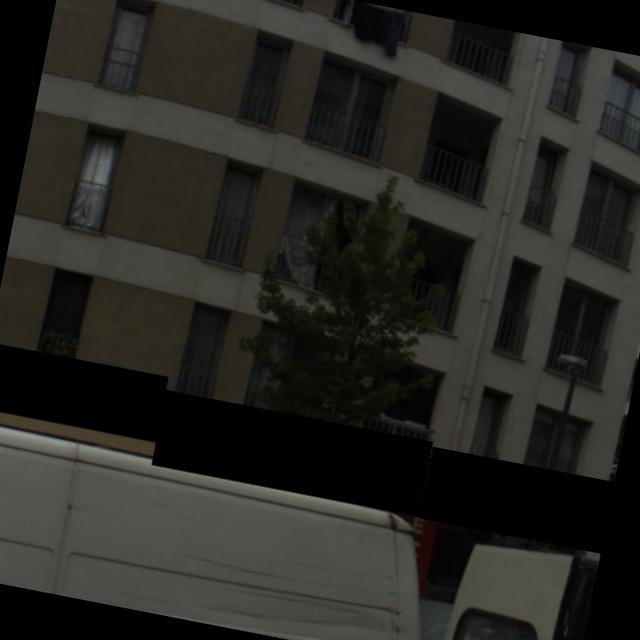SignStore: (155, 391, 431, 512), (422, 458, 614, 552), (0, 348, 167, 443)
